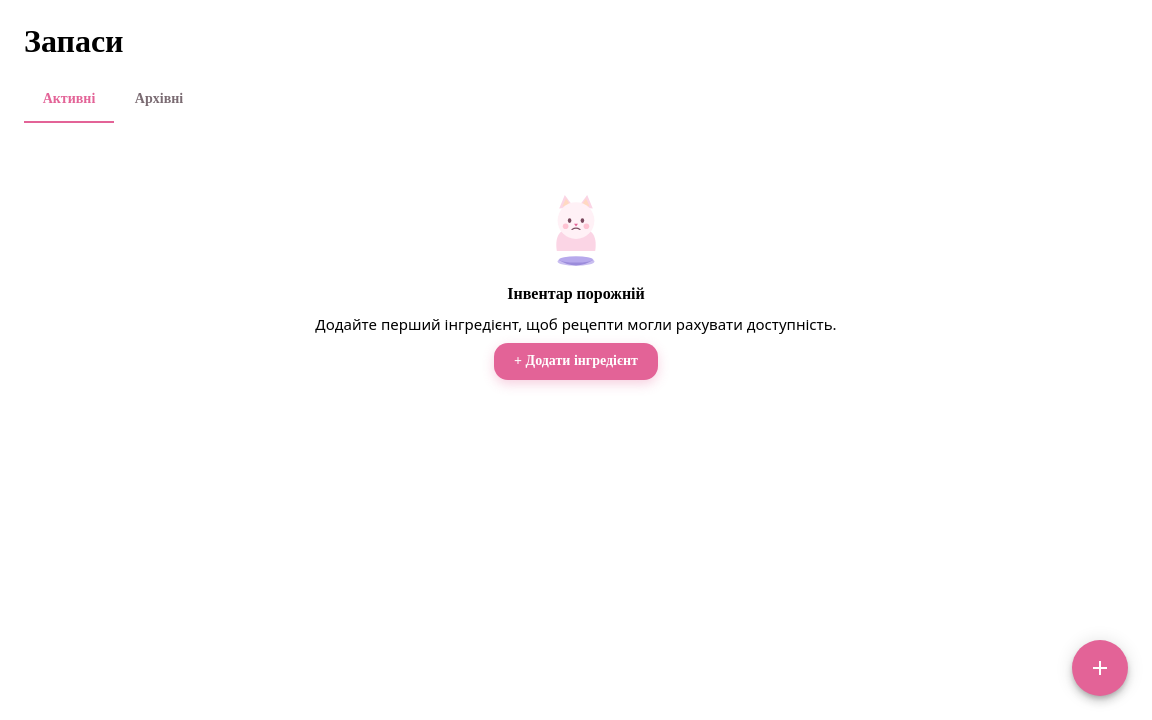
Scenario: InventoryPage states › opens the create dialog from the empty-state CTA
Click the button "+ Додати інгредієнт" at [576, 361], box [494,343,658,380]
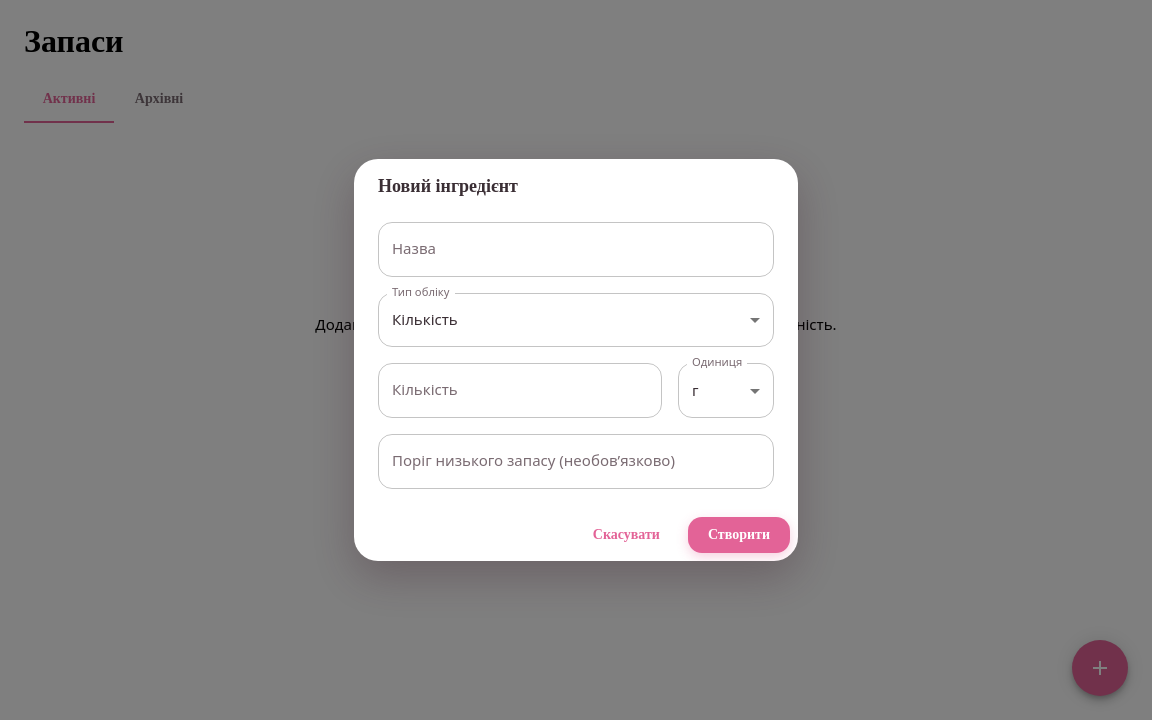
Expected: the dialog is shown, [354,159,798,561]
